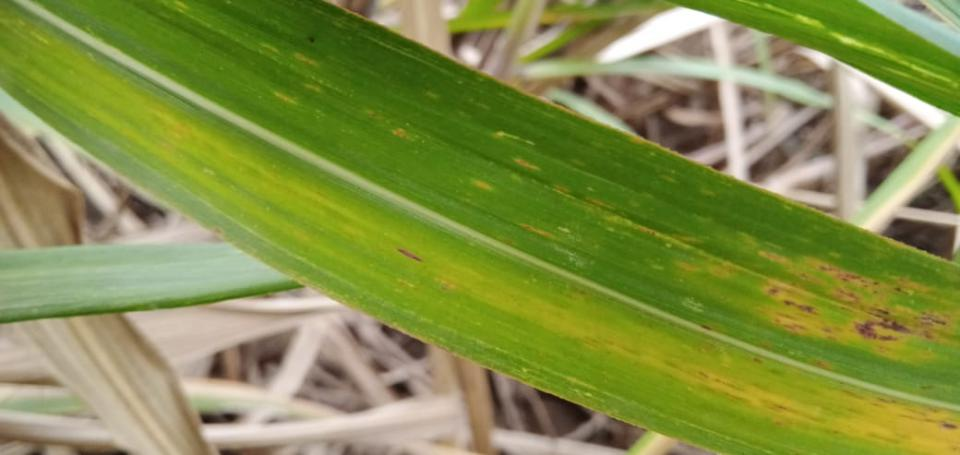Rust: (854, 311, 915, 342), (783, 300, 819, 316), (397, 248, 425, 263), (919, 315, 945, 327), (839, 289, 860, 303), (776, 312, 797, 321), (920, 331, 934, 340), (818, 265, 836, 272), (767, 288, 780, 297), (939, 423, 958, 429), (815, 360, 828, 368), (845, 273, 859, 280), (699, 324, 711, 332), (821, 327, 834, 334), (753, 356, 763, 365), (877, 309, 890, 315), (783, 325, 796, 331), (793, 324, 805, 330), (308, 36, 316, 44), (892, 287, 901, 293), (872, 281, 880, 286), (872, 290, 879, 295), (863, 285, 869, 289), (841, 278, 848, 281)
Yellow: (755, 252, 959, 362), (695, 372, 959, 454), (708, 262, 739, 278), (518, 223, 551, 238), (516, 157, 541, 170), (295, 53, 318, 66), (275, 91, 295, 105), (392, 128, 407, 138), (476, 182, 491, 190), (678, 264, 696, 270)
